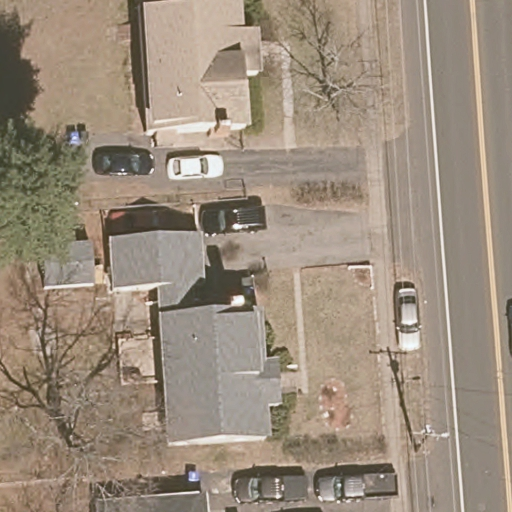DT: (411, 423, 450, 452)
